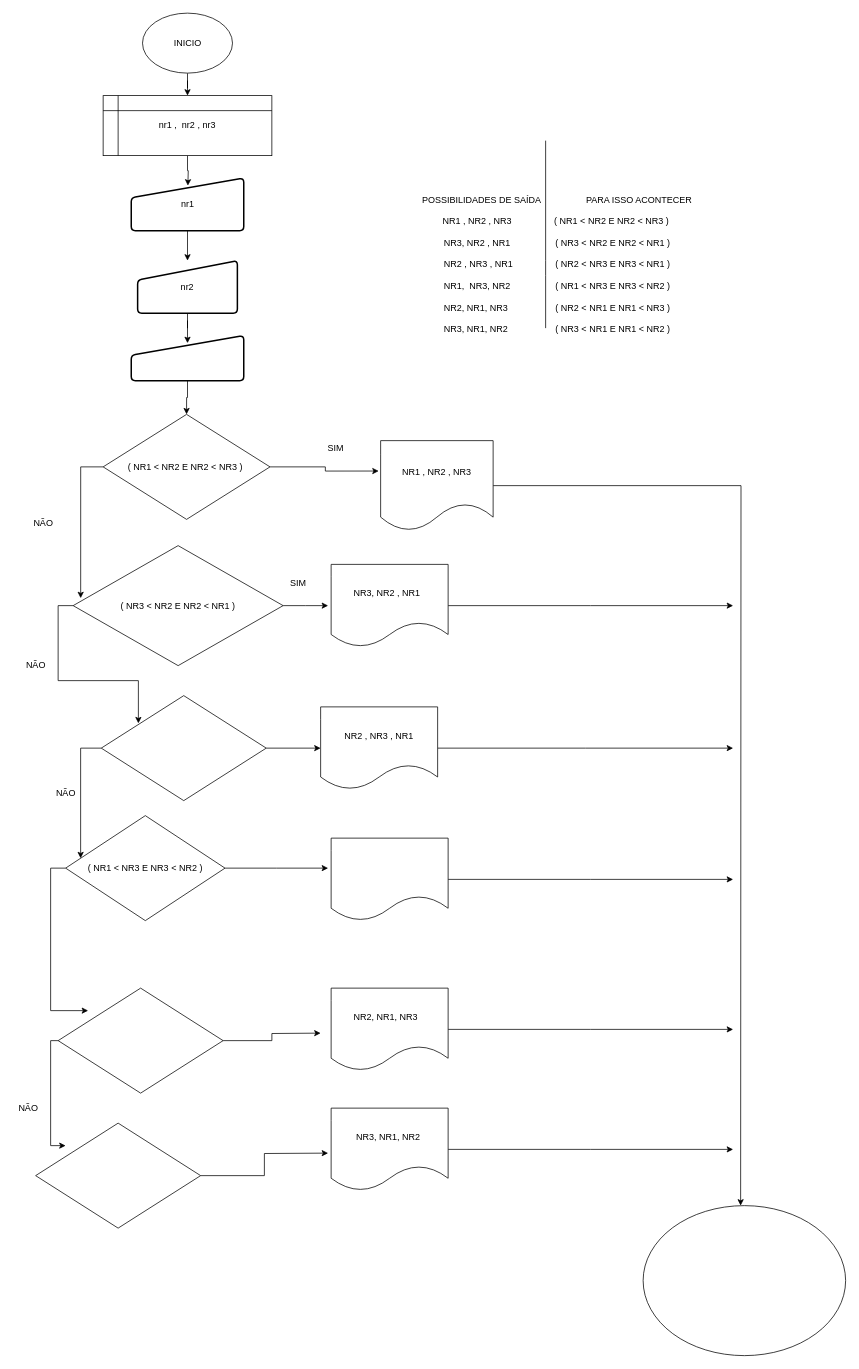
The diagram is 859 pixels wide and 1369 high, and some of its shapes have lost their labels. The shapes that lost their labels are listed below. From the top down, each one's centre as x and y in pixels, then its label:
At point 187,357: "nr3".
At point 183,748: "( NR2 < NR3 E NR3 < NR1 )".
At point 389,879: "NR1, NR3, NR2".
At point 140,1040: "( NR2 < NR1 E NR1 < NR3 )".
At point 118,1175: "( NR3 < NR1 E NR1 < NR2 )".
At point 744,1280: "FIM".
